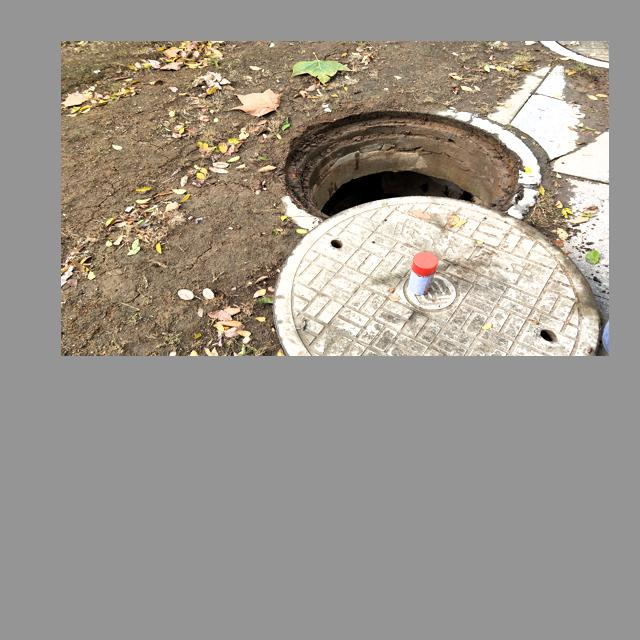uncovered: (275, 107, 599, 356)
